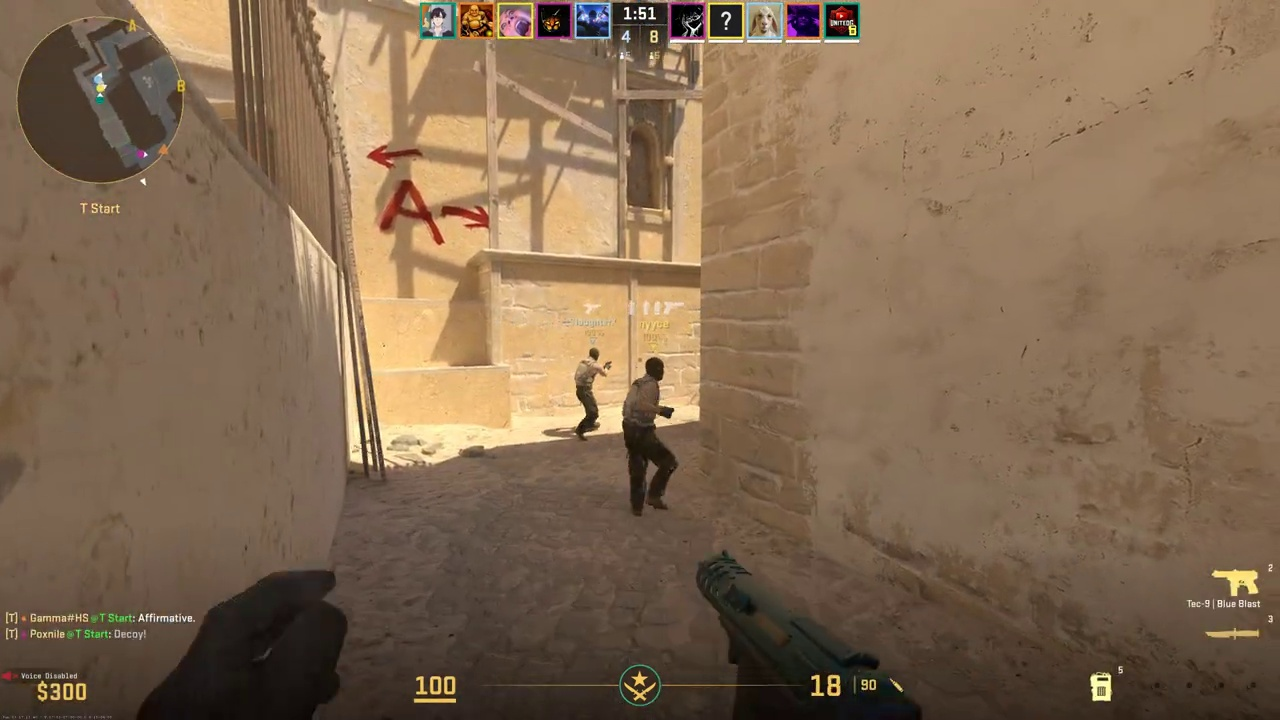Terrorist: (622, 357, 682, 516), (575, 348, 605, 441)
